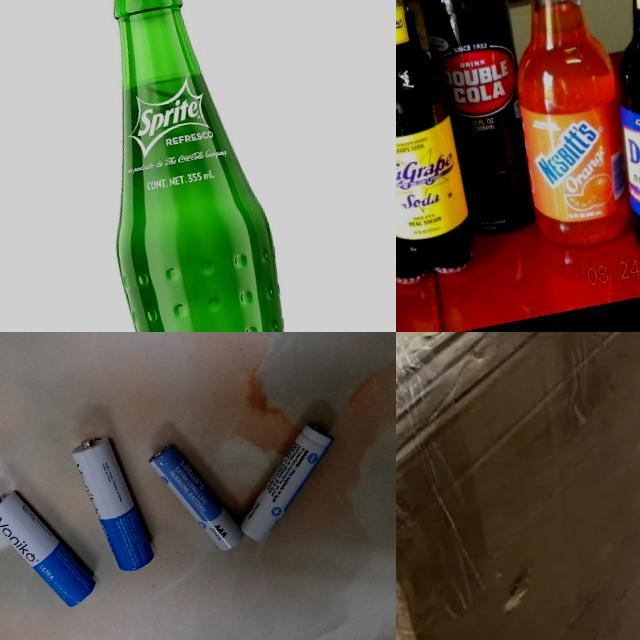bateria: (222, 419, 348, 545), (0, 477, 99, 619), (70, 428, 161, 578), (147, 433, 245, 565)
garrafa de vidro: (61, 0, 338, 332), (484, 0, 640, 257), (396, 0, 550, 242), (396, 0, 478, 288), (572, 0, 640, 273)
papelão: (396, 332, 640, 640)
